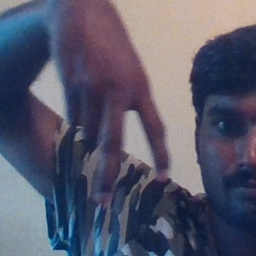Y: (55, 23, 177, 209)
